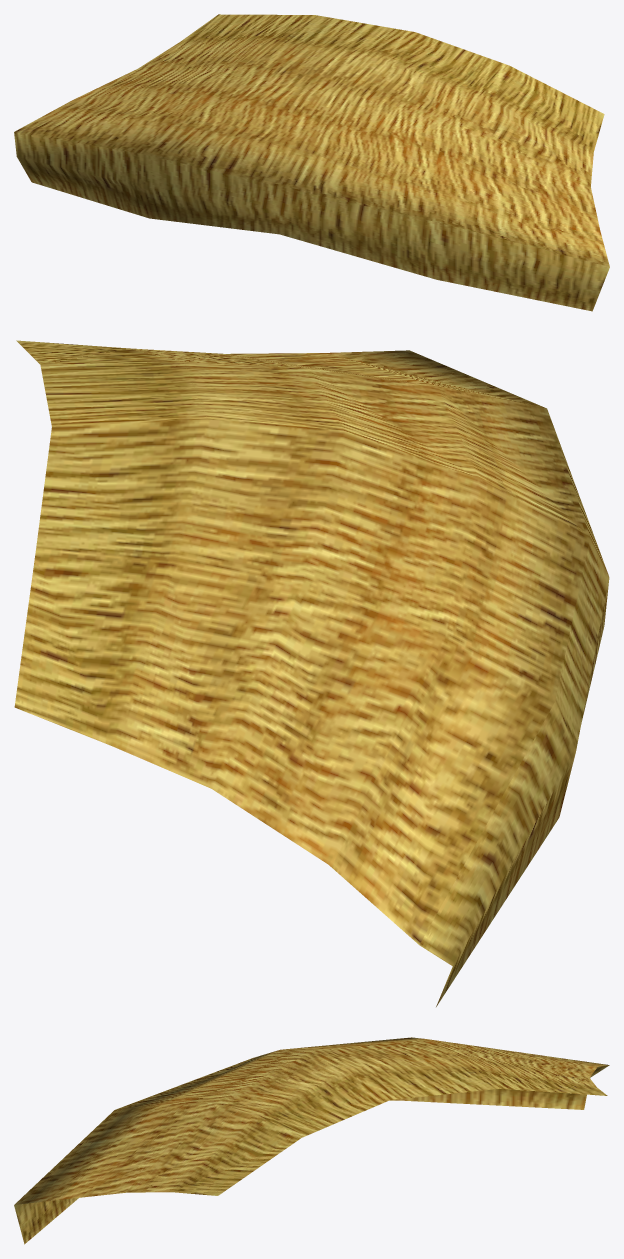
The model's file is HTOWN01_HANNA-AWNING01.fbx.
The picture shows the model from 3 angles, top to bottom: view 1: azimuth 30°, elevation 25°; view 2: azimuth 150°, elevation 25°; view 3: azimuth 270°, elevation 25°; orthographic projection. The views are drawn at different scales.
Parts seen in each view (by area): view 1: HTOWN01_HANNA-AWNING01; view 2: HTOWN01_HANNA-AWNING01; view 3: HTOWN01_HANNA-AWNING01.
Part boxes in pixels (x1,y1,x2,y2): HTOWN01_HANNA-AWNING01: (14,14,609,311); HTOWN01_HANNA-AWNING01: (14,340,609,1006); HTOWN01_HANNA-AWNING01: (14,1037,609,1244).
Size of the model in its own units: 31885 by 11584 by 40491.
Materials: 2 (2 with a texture image).
